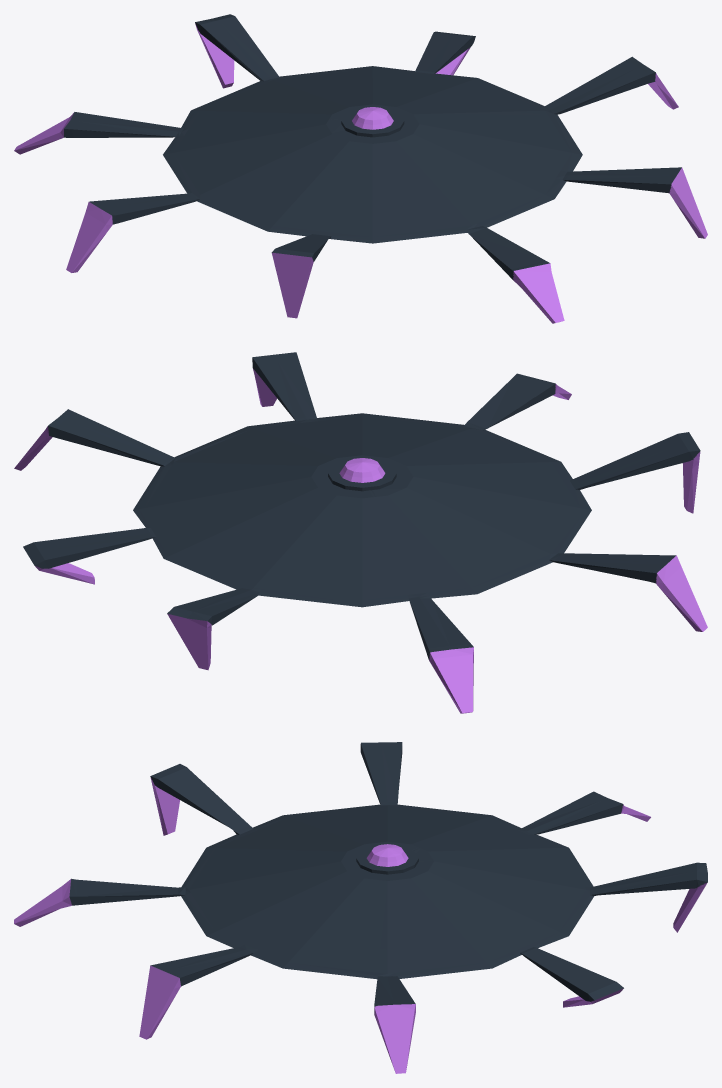
File: Spider_Walk_000022.obj
The picture shows the model from 3 angles, top to bottom: view 1: azimuth 30°, elevation 25°; view 2: azimuth 150°, elevation 25°; view 3: azimuth 270°, elevation 25°; orthographic projection. The views are drawn at different scales.
Parts seen in each view (by area): view 1: Circle_Circle.001; view 2: Circle_Circle.001; view 3: Circle_Circle.001.
Part boxes in pixels (x1,y1,x2,y2): Circle_Circle.001: (14, 14, 707, 323); Circle_Circle.001: (14, 352, 707, 713); Circle_Circle.001: (14, 742, 707, 1073).
Size of the model in its own units: 3.41 by 0.4603 by 3.31.
